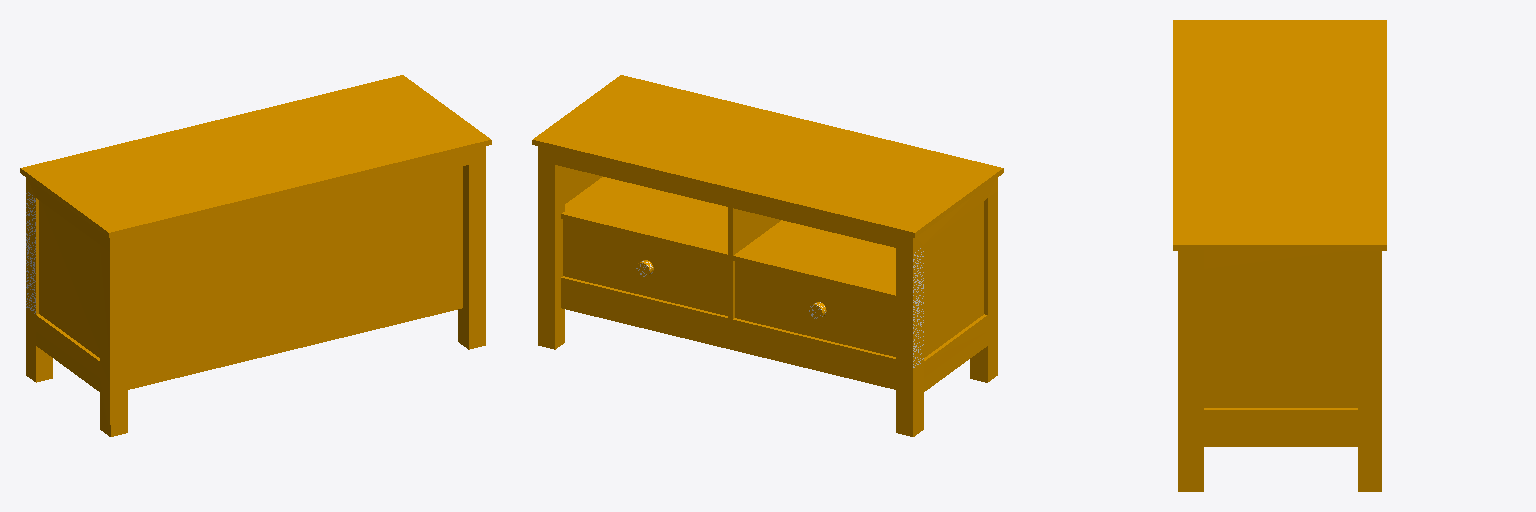
URDF robot description (my_object):
<?xml version="1.0" ?> 
<robot name="my_object" static="true">
  <link name="base_link">
  <inertial>
    <mass value="5.0" />
    <origin xyz="0 0 0.0" />
    <inertia ixx="1.0" ixy="0.0" ixz="0.0" iyy="1.0" iyz="0.0" izz="1.0"/>
  </inertial>
  <visual>
   <origin xyz="0 0 0.0" rpy="0 0 0" />
   <geometry>
     <mesh filename="package://cob_gazebo_objects/Media/models/table_tv.dae"/>
   </geometry>
  </visual>
  <collision>
   <origin xyz="0 0 0.0" rpy="0 0 0" />
   <geometry>
     <mesh filename="package://cob_gazebo_objects/Media/models/table_tv.dae" />
   </geometry>
  </collision>     
  </link>

<gazebo>
	<static>true</static>
</gazebo>
</robot>

--- Facts derived from the render (not from the file) ---
3 views of the same robot in one strip: view 1: azimuth 30°, elevation 25°; view 2: azimuth 150°, elevation 25°; view 3: azimuth 270°, elevation 25° (orthographic).
Robot: my_object — 1 links, 0 joints (none); root link base_link; default pose: all joints at 0.
Visible links, largest first — view 1: base_link; view 2: base_link; view 3: base_link.
Link boxes in pixels (x1=…): base_link: x1=20, y1=75, x2=491, y2=436; base_link: x1=532, y1=75, x2=1003, y2=436; base_link: x1=1173, y1=20, x2=1386, y2=491.
Size in the robot's own frame: 1.1 by 0.4428 by 0.57 metres.
1 mesh visuals loaded from 1 distinct referenced files (1 Collada DAE).